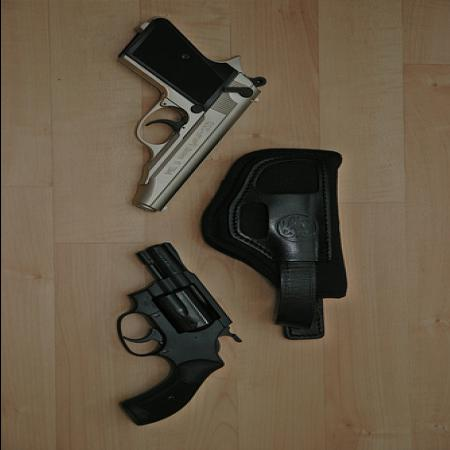Pistol: (118, 20, 268, 212), (120, 241, 246, 431)
